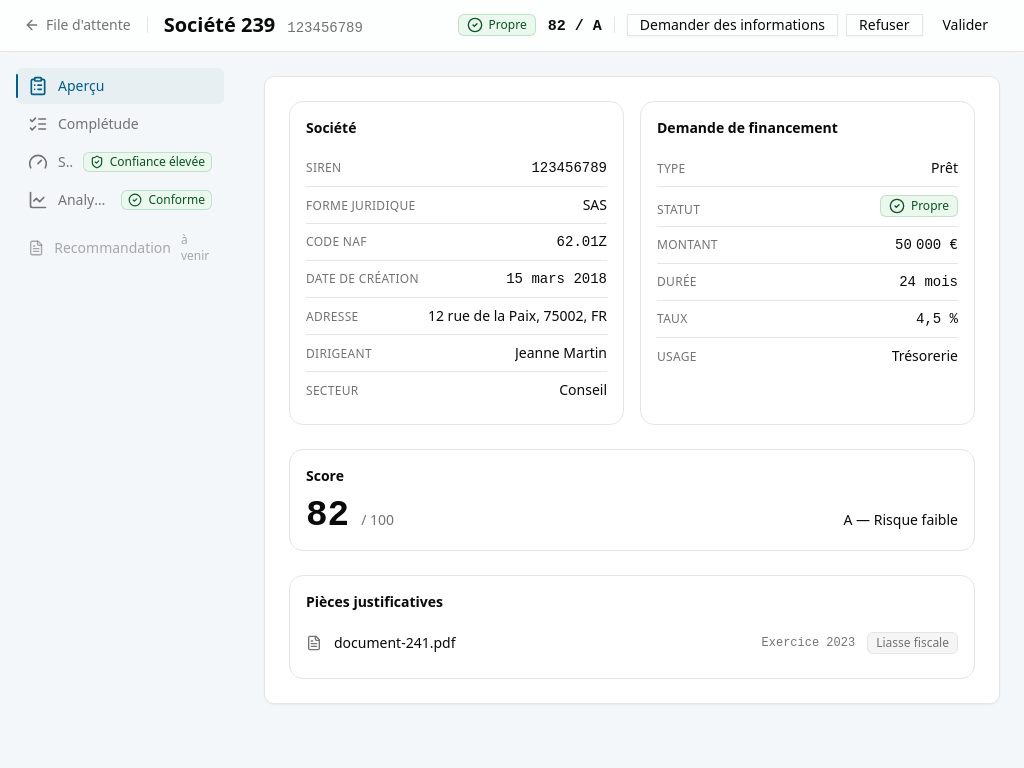
Test: Workspace — Complétude section › shows the empty state when completeness is missing
This screenshot has width=1024, height=768.
Step 1. Click the button "Complétude" → (120, 124), box 16,106 -> 224,142
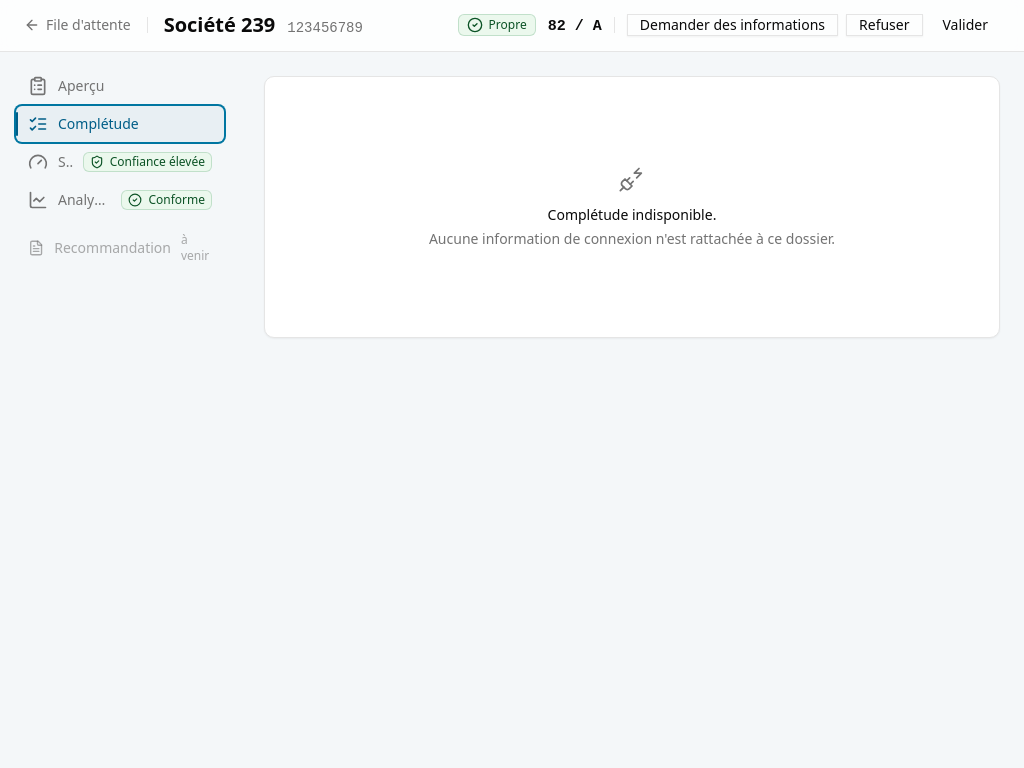
Result: the text "Complétude indisponible." is shown at 548,204 -> 716,224
